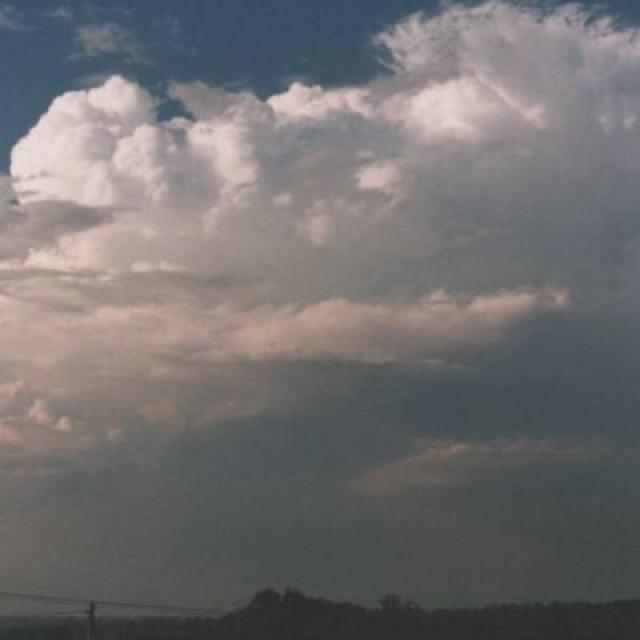St: (1, 33, 640, 483)
